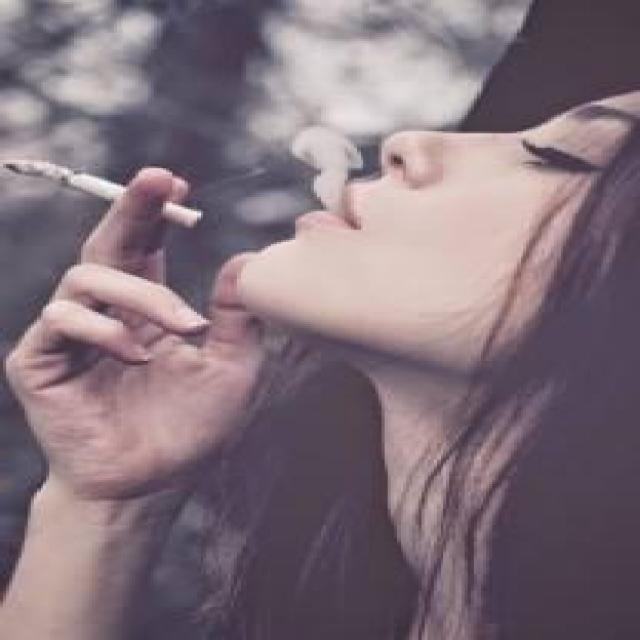smoke: (0, 150, 209, 240)
